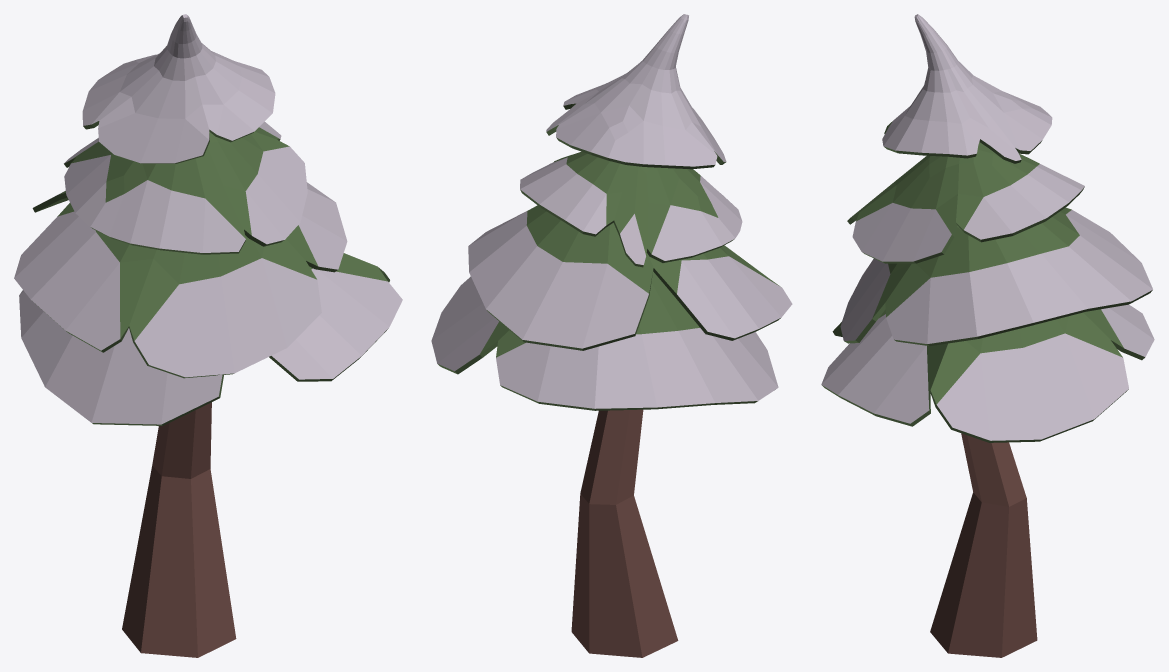
The model's file is pinetree_snow.glb.
3 views of the same model, side by side, from view 1: azimuth 30°, elevation 25°; view 2: azimuth 150°, elevation 25°; view 3: azimuth 270°, elevation 25° (orthographic). The views are drawn at different scales.
Visible parts, largest first — view 1: PineTree_Snow_5; view 2: PineTree_Snow_5; view 3: PineTree_Snow_5.
Part boxes in pixels (bbox=[...]): PineTree_Snow_5: bbox=[14, 14, 402, 657]; PineTree_Snow_5: bbox=[431, 14, 792, 657]; PineTree_Snow_5: bbox=[821, 14, 1154, 657].
Size of the model in its own units: 1.47 by 2.69 by 1.34.
